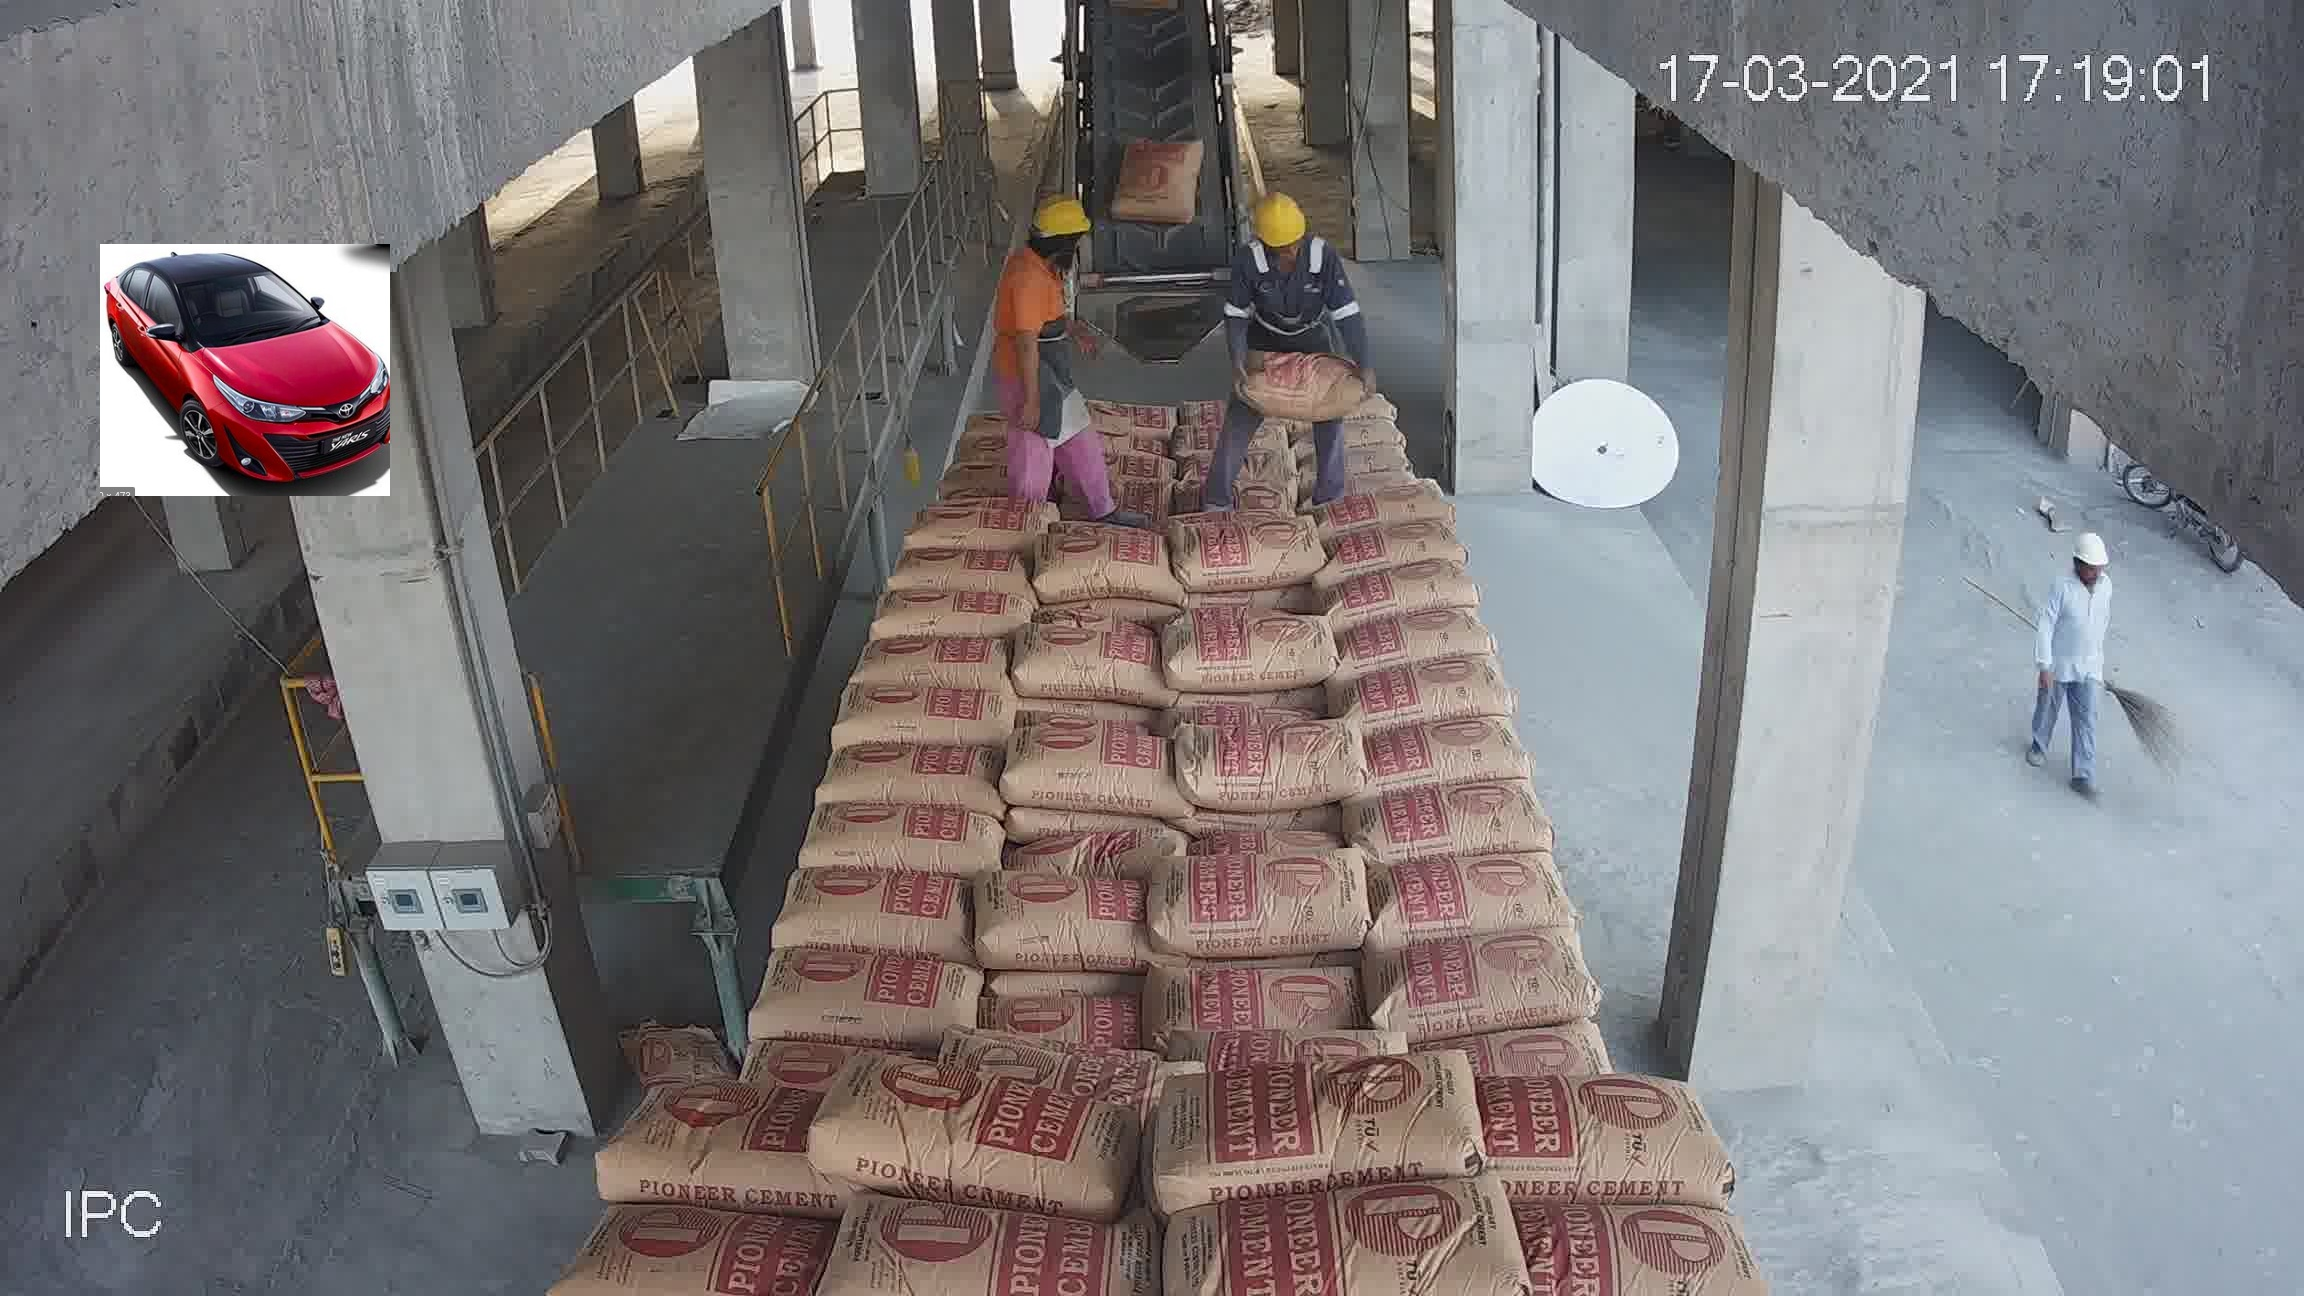bag: (1105, 138, 1199, 218)
bag_h: (1127, 1043, 1476, 1203), (820, 1060, 1139, 1215), (590, 1059, 831, 1212), (1168, 1176, 1525, 1271), (813, 1198, 1149, 1287), (1374, 930, 1612, 1048), (748, 926, 976, 1044), (1487, 1078, 1715, 1193), (535, 1204, 820, 1290), (1362, 843, 1593, 948), (1154, 850, 1367, 961), (1351, 779, 1560, 885), (767, 855, 975, 956), (1516, 1196, 1761, 1280), (1157, 954, 1372, 1049), (1158, 1017, 1415, 1097), (785, 791, 1005, 877), (1168, 711, 1367, 802), (965, 869, 1144, 970), (1340, 650, 1522, 745), (1369, 709, 1548, 805), (802, 728, 1006, 810), (1003, 794, 1188, 885), (1003, 734, 1180, 821), (1160, 503, 1318, 598), (1347, 585, 1500, 677), (1332, 540, 1483, 631), (1173, 617, 1343, 687), (829, 684, 1010, 745), (1309, 468, 1461, 541), (981, 989, 1161, 1046), (1035, 524, 1173, 598), (961, 1029, 1196, 1071), (869, 578, 1029, 639), (1233, 348, 1385, 411), (1013, 631, 1150, 701), (1476, 1010, 1622, 1073), (1313, 514, 1470, 571), (880, 548, 1033, 601), (911, 492, 1060, 544), (861, 628, 1010, 680), (1093, 438, 1180, 491), (1089, 392, 1176, 427)
belt: (1055, 8, 1236, 313)
